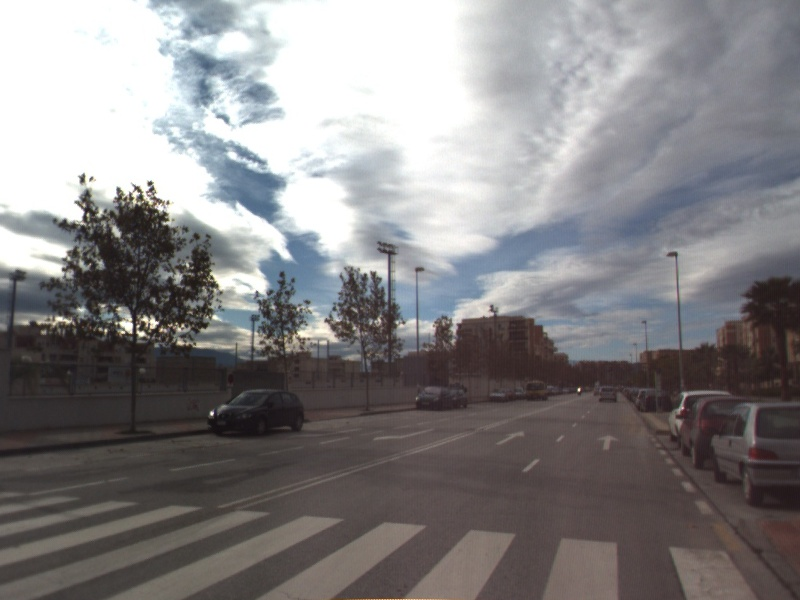STRAIGHT: (494, 429, 527, 447), (595, 432, 622, 452)
